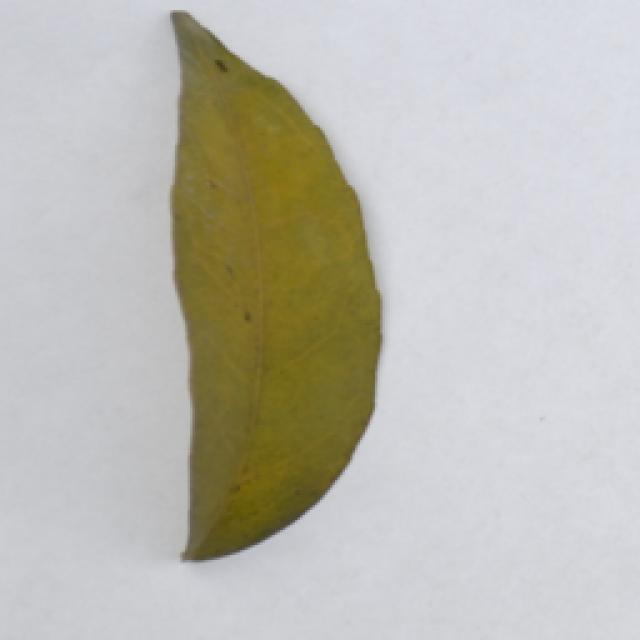greening: (150, 15, 399, 560)
